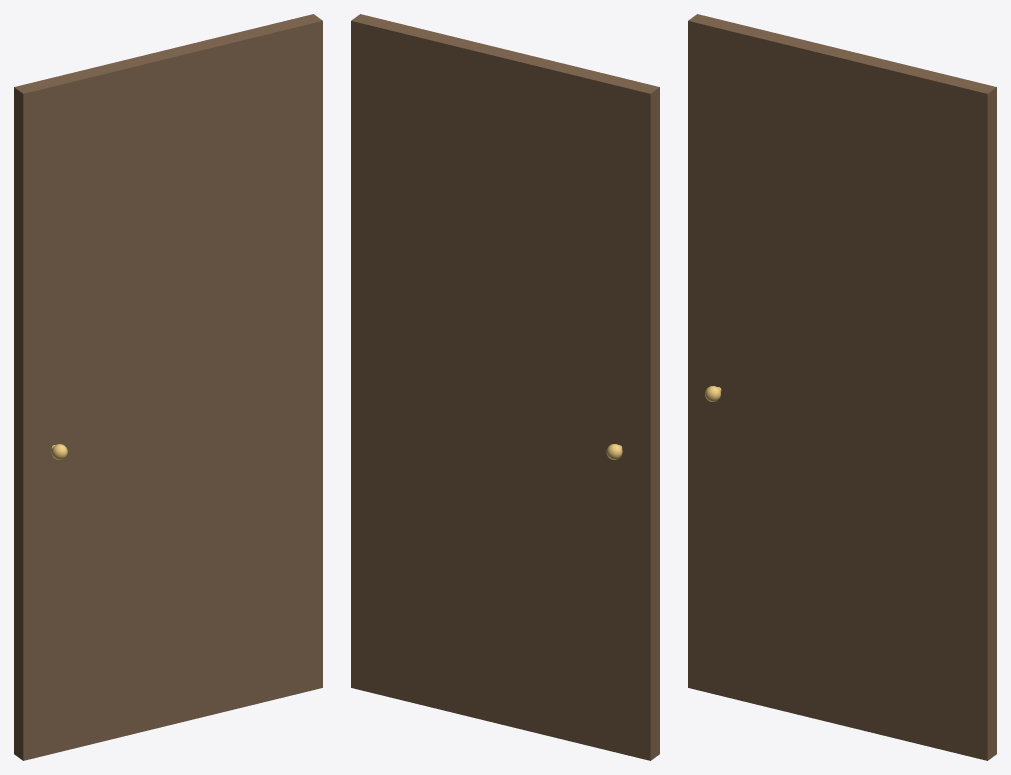
Rendered from Door.fbx.
The picture shows the model from 3 angles, left to right: view 1: azimuth 30°, elevation 25°; view 2: azimuth 150°, elevation 25°; view 3: azimuth 330°, elevation 25°; orthographic projection.
Parts seen in each view (by area): view 1: Door.005; view 2: Door.005; view 3: Door.005.
Boxes of the visible parts, x1,y1,x2,y2 form: Door.005: (14,14,322,760); Door.005: (351,14,659,760); Door.005: (688,14,996,760).
Size of the model in its own units: 197 by 419 by 32.54.
